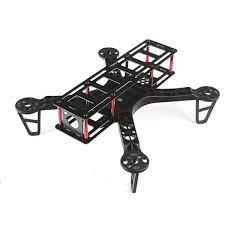drone: (14, 32, 220, 181)
